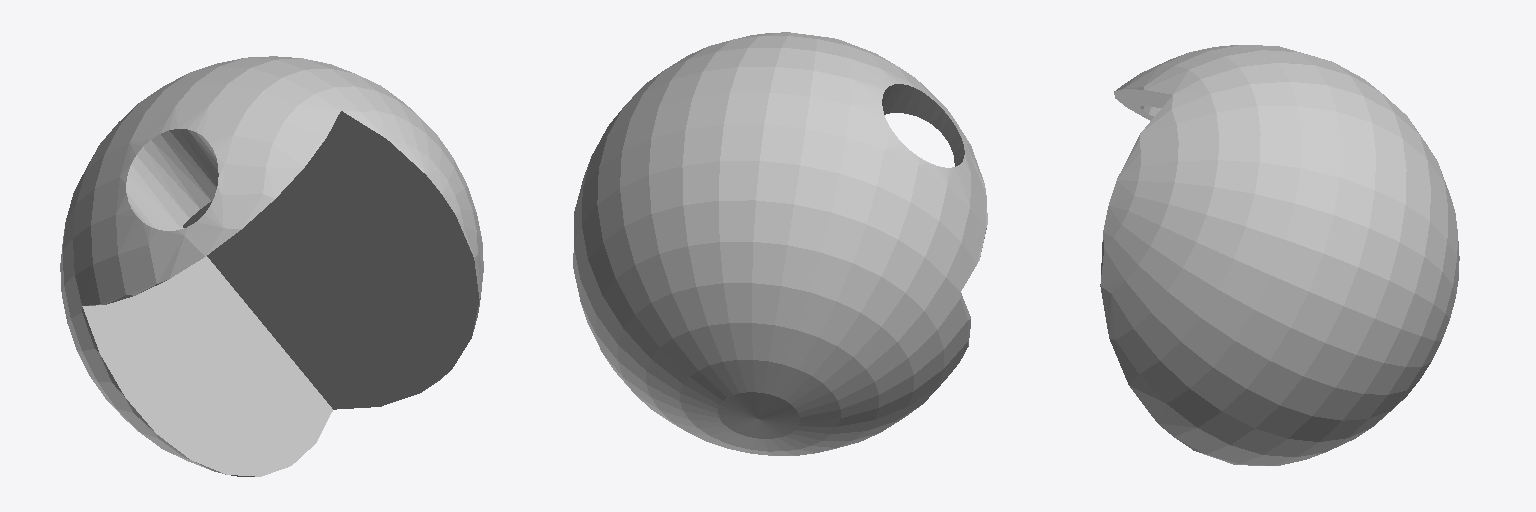
The picture shows the model from 3 angles: view 1: azimuth 30°, elevation 25°; view 2: azimuth 150°, elevation 25°; view 3: azimuth 270°, elevation 25°; orthographic projection.
Parts seen in each view (by area): view 1: 设计2\实体; view 2: 设计2\实体; view 3: 设计2\实体.
Part boxes in pixels (x1,y1,x2,y2): 设计2\实体: (60, 56, 483, 476); 设计2\实体: (573, 32, 987, 455); 设计2\实体: (1100, 45, 1459, 465).
Bounding box in the file's own units: 220 × 220 × 186.